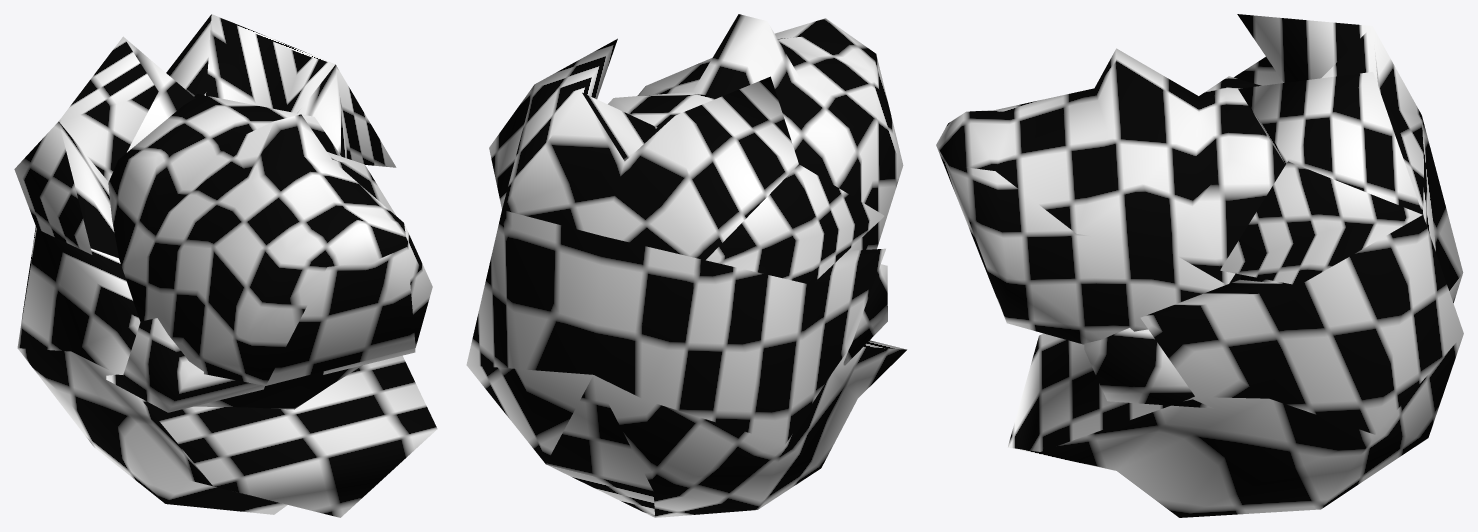
Rendered from infaunhumame2.dae.
3 views of the same model, side by side, from view 1: azimuth 30°, elevation 25°; view 2: azimuth 150°, elevation 25°; view 3: azimuth 270°, elevation 25° (orthographic). The views are drawn at different scales.
Parts seen in each view (by area): view 1: face; view 2: face; view 3: face.
Boxes of the visible parts, bbox=[...] form: face: bbox=[14, 14, 437, 517]; face: bbox=[466, 14, 906, 517]; face: bbox=[936, 14, 1463, 517].
Size of the model in its own units: 1.17 by 1.54 by 1.44.
1 material, 1 textured.
